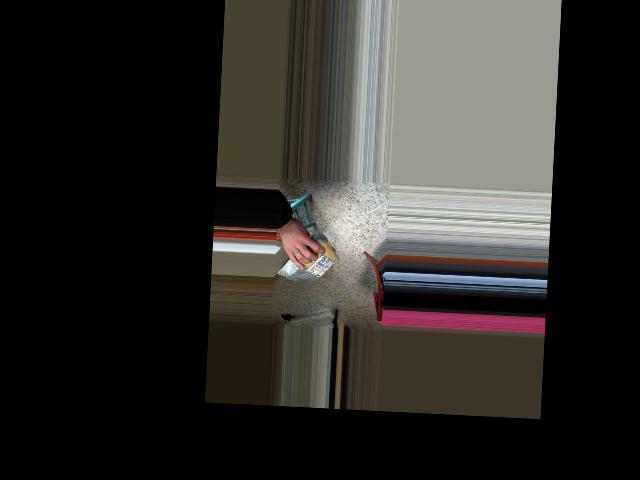cheese: (278, 235, 338, 282)
